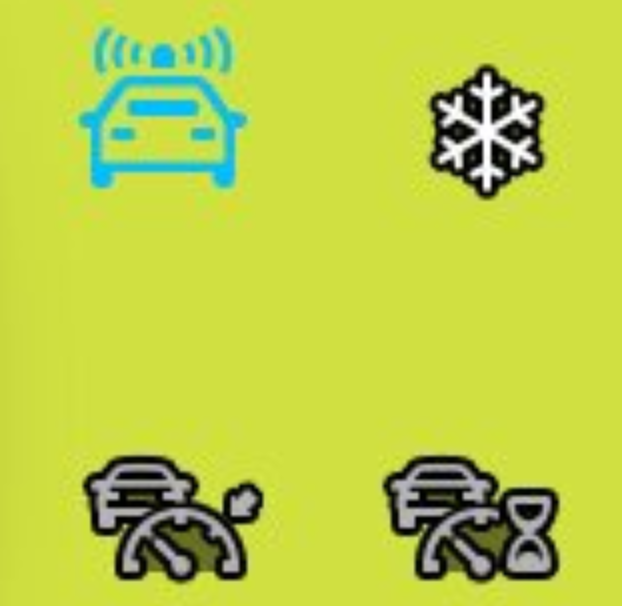ACC_AKTIV: (61, 442, 296, 591)
ACC_WAITING: (378, 449, 587, 602)
EISSTERN: (412, 63, 559, 204)
SEV_INF: (72, 13, 261, 197)
